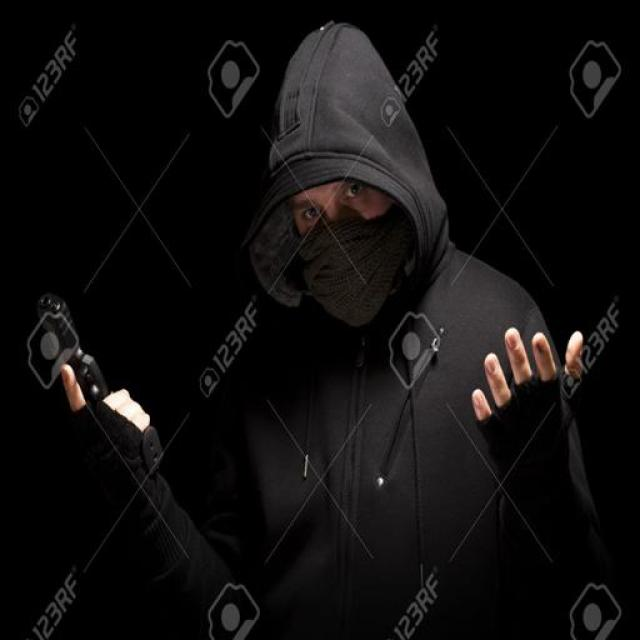pistol: (32, 291, 175, 480)
